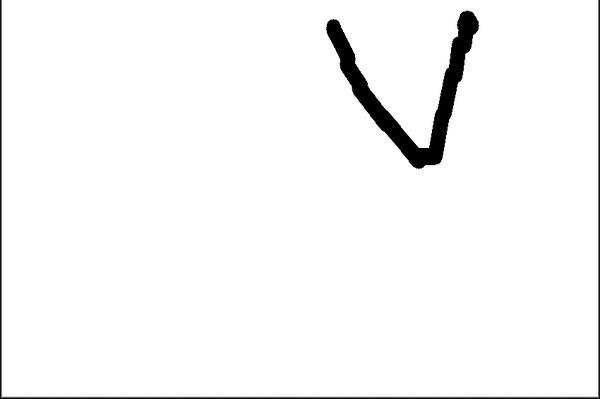V: (324, 6, 484, 174)
